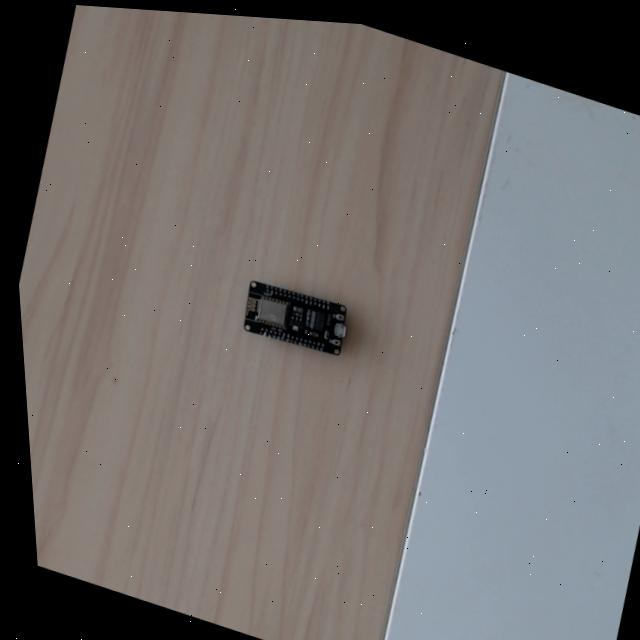ESP8266-NodeMCU: (235, 277, 351, 358)
